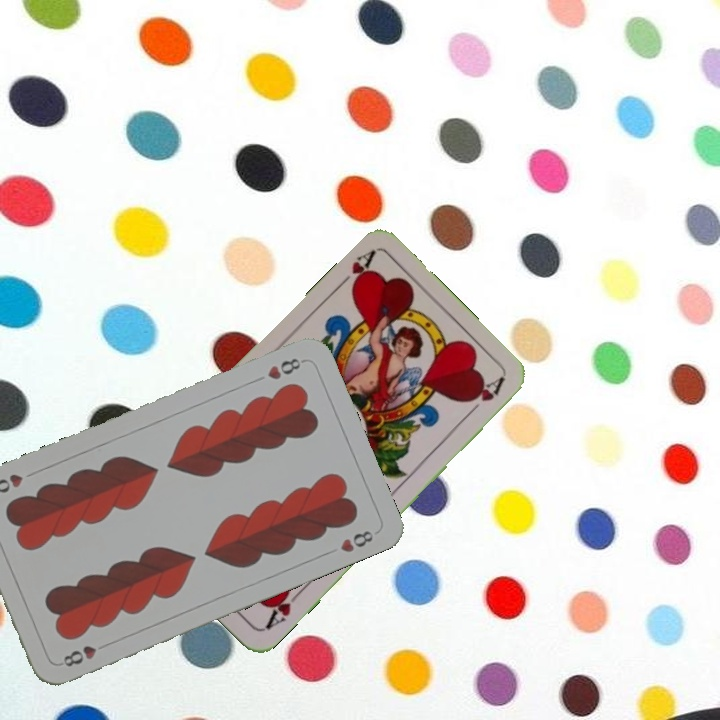H8: (263, 354, 308, 383), (59, 641, 100, 670)
HA: (259, 581, 304, 633), (330, 247, 377, 295)
